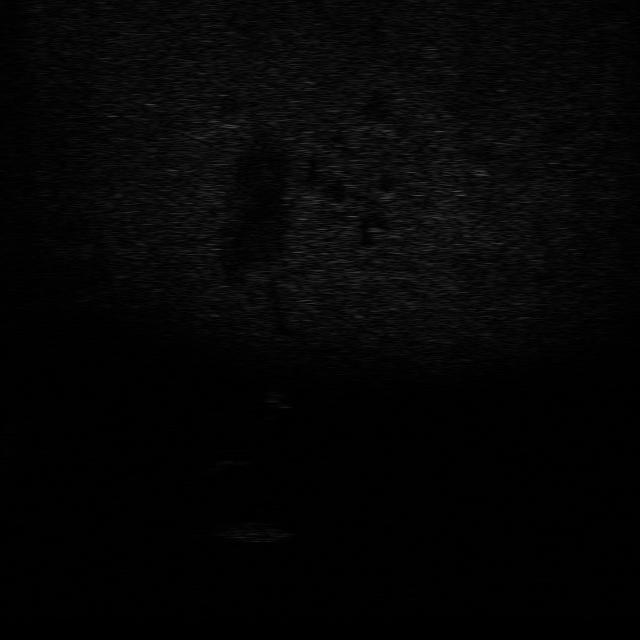ball: (206, 444, 254, 470)
circle cage: (208, 516, 294, 546)
human body: (249, 376, 296, 426)
